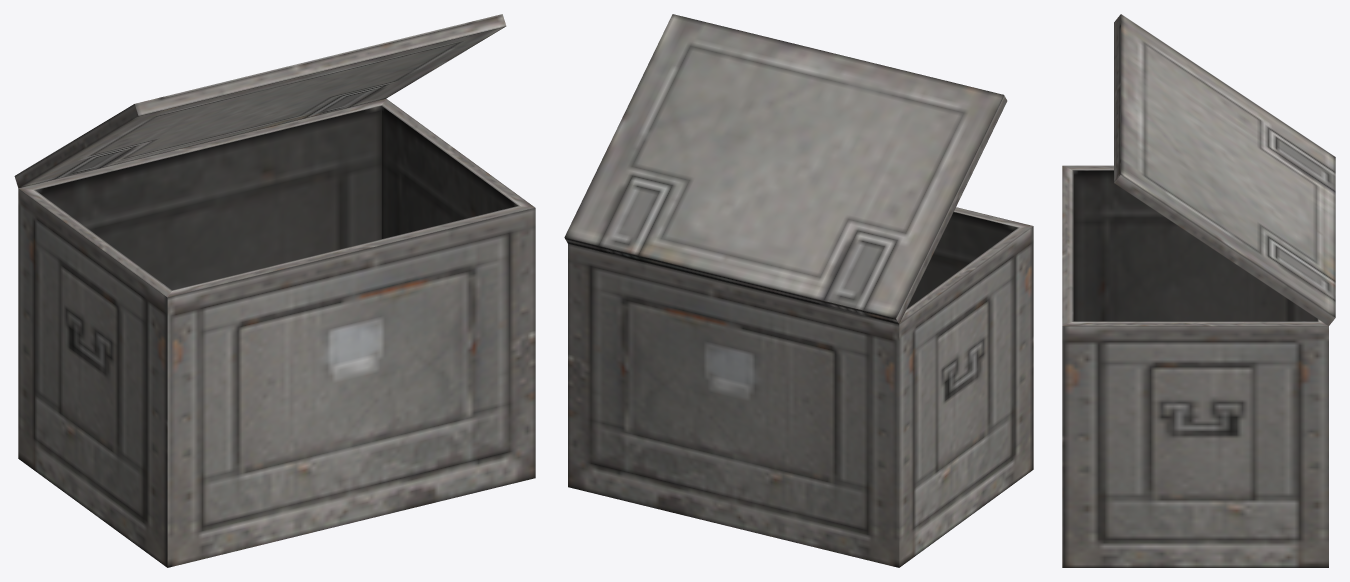
The picture shows the model from 3 angles, left to right: view 1: azimuth 30°, elevation 25°; view 2: azimuth 150°, elevation 25°; view 3: azimuth 270°, elevation 25°; orthographic projection. The views are drawn at different scales.
Visible parts, largest first — view 1: Box_04; view 2: Box_04; view 3: Box_04.
Boxes of the visible parts, box(x1,y1,x2,y2) form: Box_04: box(14, 14, 535, 567); Box_04: box(564, 14, 1033, 567); Box_04: box(1062, 14, 1335, 567).
Bounding box in the file's own units: 142 × 163 × 103.
